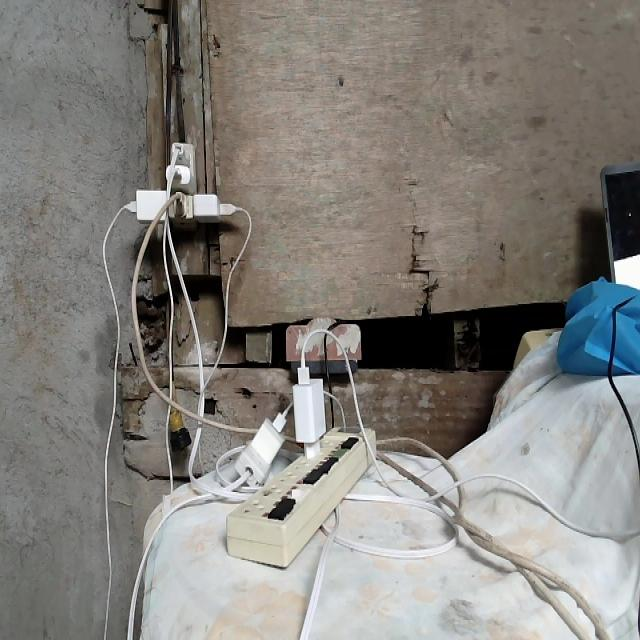-: (118, 141, 237, 223)
